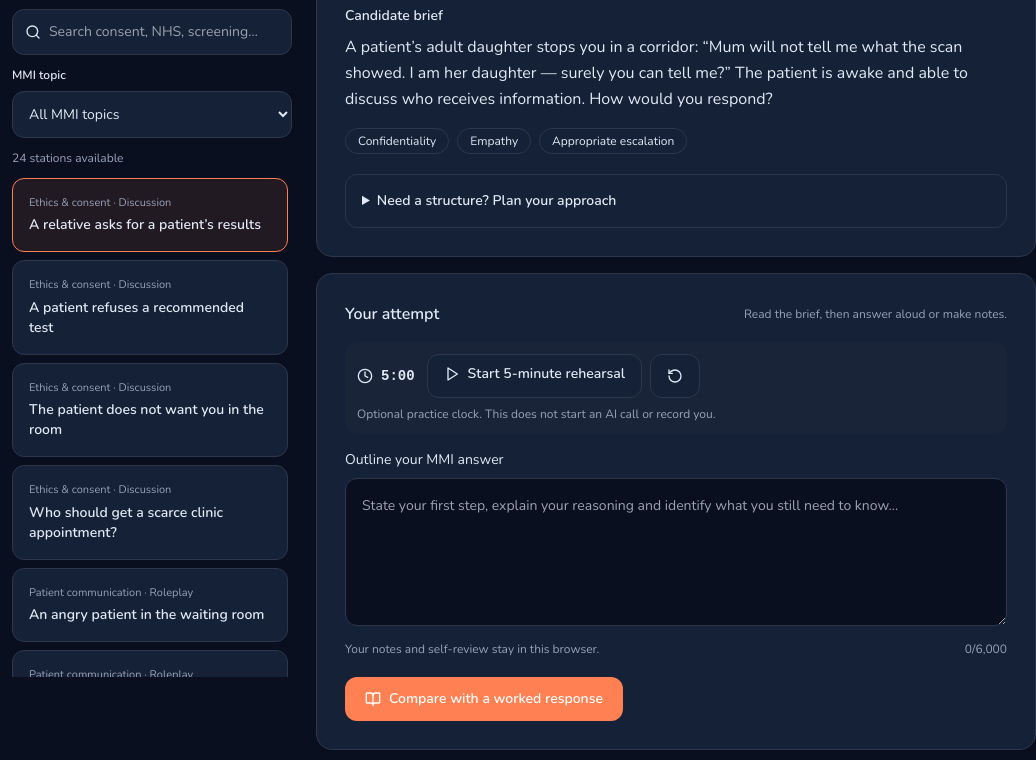
Test case: Optional MMI rehearsal clock › stops the previous clock when the student chooses another station
(page scrolled)
Click the button "Start 5-minute rehearsal": (534, 376) [427,354,642,398]
Wait 12000 ms
(page scrolled)
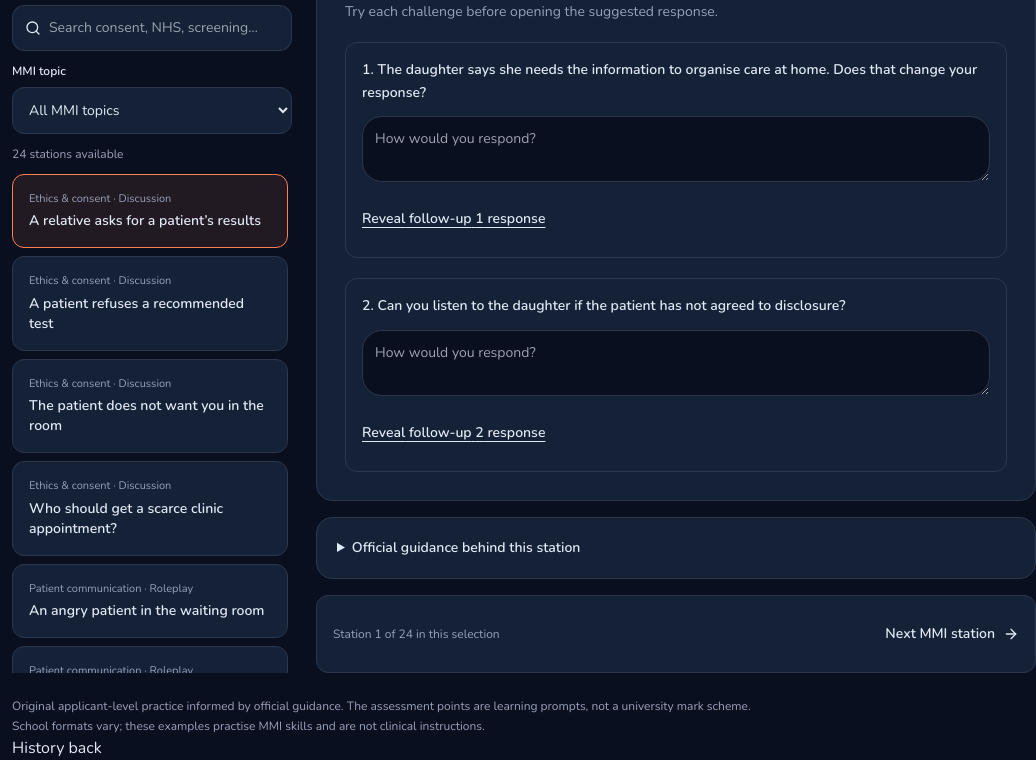
Click the button "Next MMI station": (952, 634) [885,612,1019,656]
Wait 20000 ms
(page scrolled)
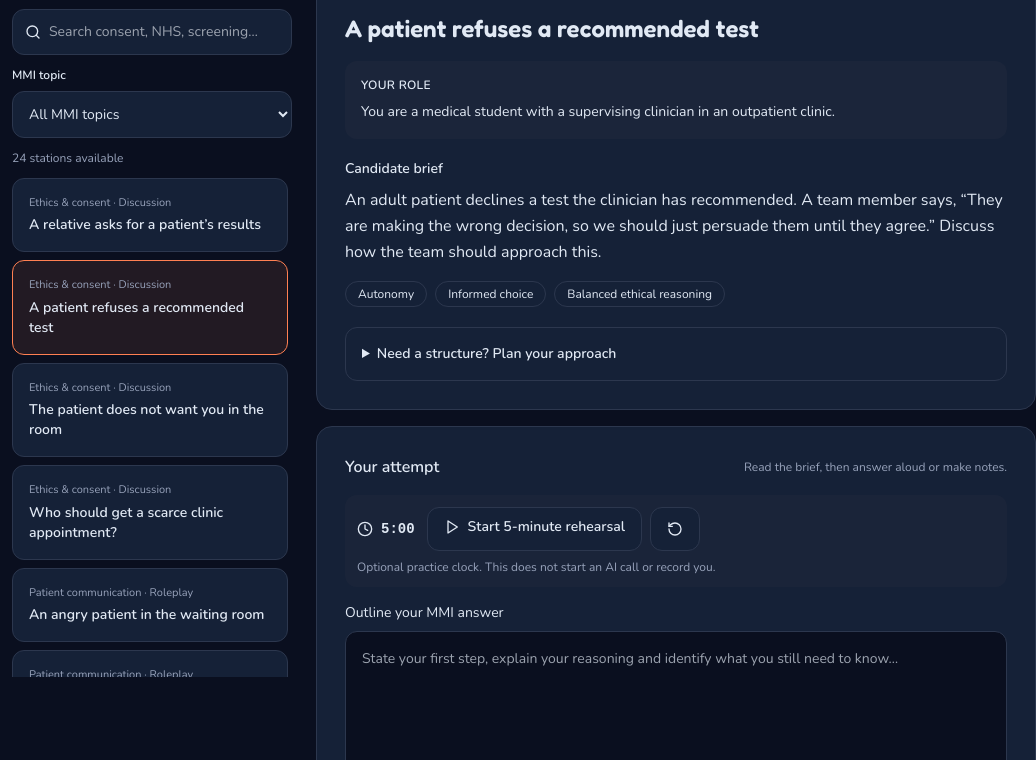
Check: the element showing "5:00" is shown, box [357,519,415,539]
